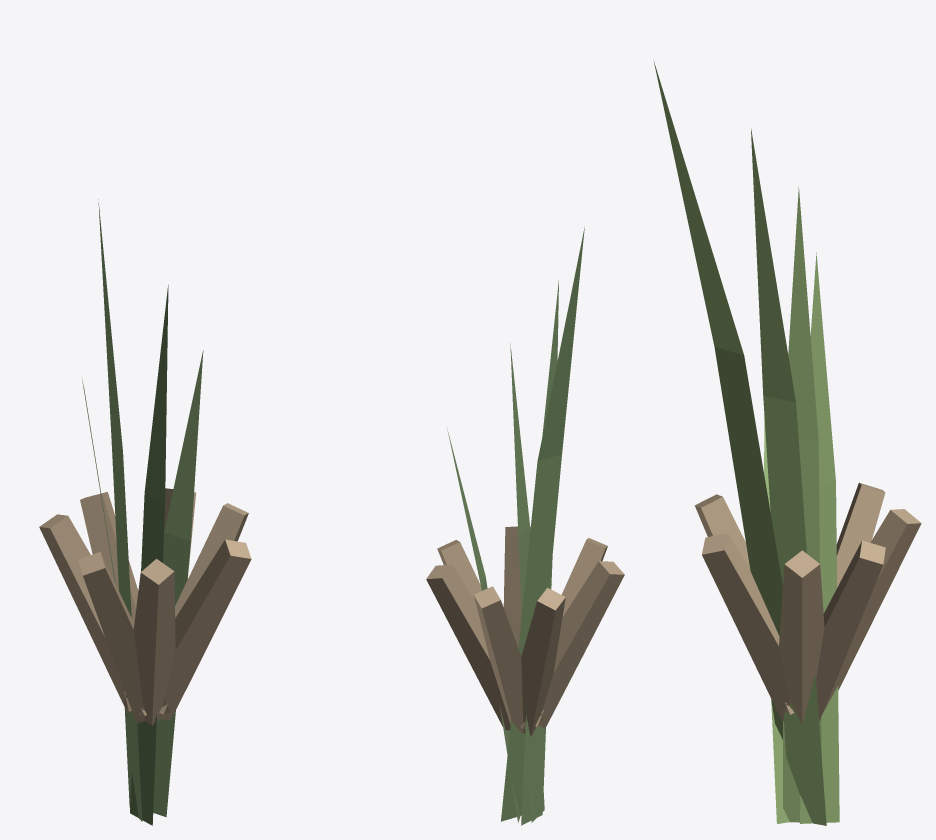
File: shui.changpu@flowering__spring.glb
The picture shows the model from 3 angles, left to right: view 1: azimuth 30°, elevation 25°; view 2: azimuth 150°, elevation 25°; view 3: azimuth 270°, elevation 25°; orthographic projection. The views are drawn at different scales.
Visible parts, largest first — view 1: shui.changpu@flowering__spring; view 2: shui.changpu@flowering__spring; view 3: shui.changpu@flowering__spring.
Part boxes in pixels (left/top/right/bottom): shui.changpu@flowering__spring: left=39, top=199, right=251, bottom=825; shui.changpu@flowering__spring: left=426, top=226, right=624, bottom=825; shui.changpu@flowering__spring: left=654, top=62, right=921, bottom=825.
Bounding box in the file's own units: 0.5859 × 1.62 × 0.4645.
